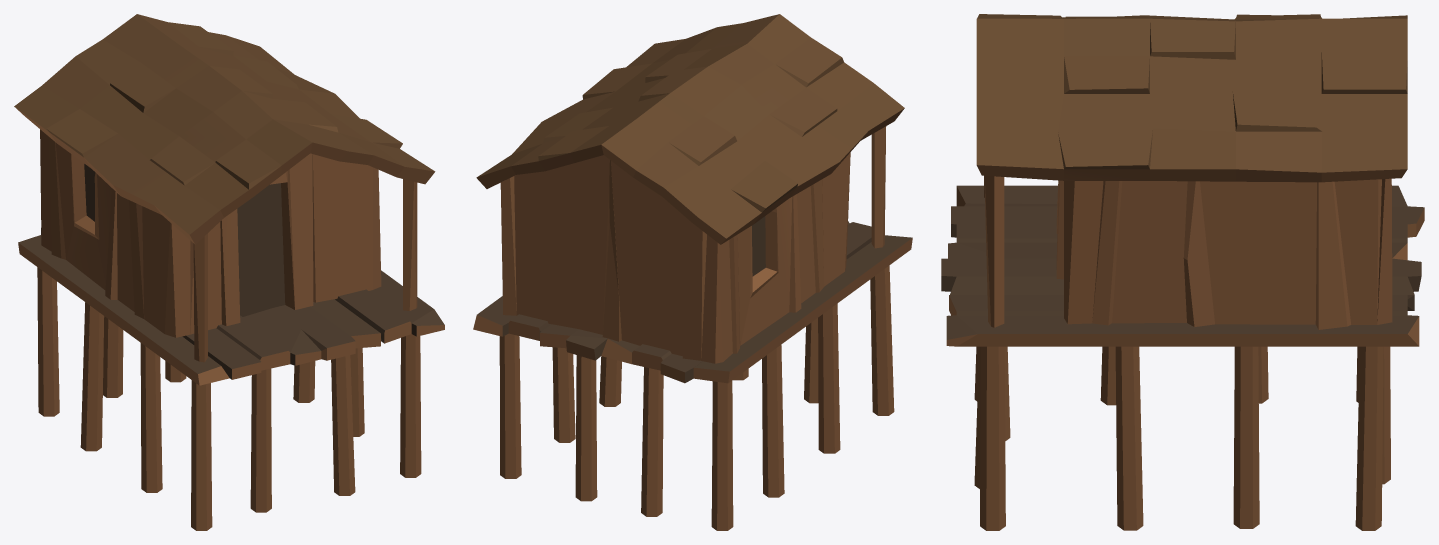
File: pirates_pirate-hut-platform-wood.fbx
3 renders of one model, left to right at view 1: azimuth 30°, elevation 25°; view 2: azimuth 150°, elevation 25°; view 3: azimuth 270°, elevation 25°, orthographic. The views are drawn at different scales.
Visible parts, largest first — view 1: pirates_pirate_hut_platform_wood; view 2: pirates_pirate_hut_platform_wood; view 3: pirates_pirate_hut_platform_wood.
Part boxes in pixels (x1=…): pirates_pirate_hut_platform_wood: x1=14, y1=14, x2=444, y2=530; pirates_pirate_hut_platform_wood: x1=473, y1=14, x2=912, y2=530; pirates_pirate_hut_platform_wood: x1=941, y1=14, x2=1424, y2=530.
Bounding box in the file's own units: 149 × 200 × 197.
